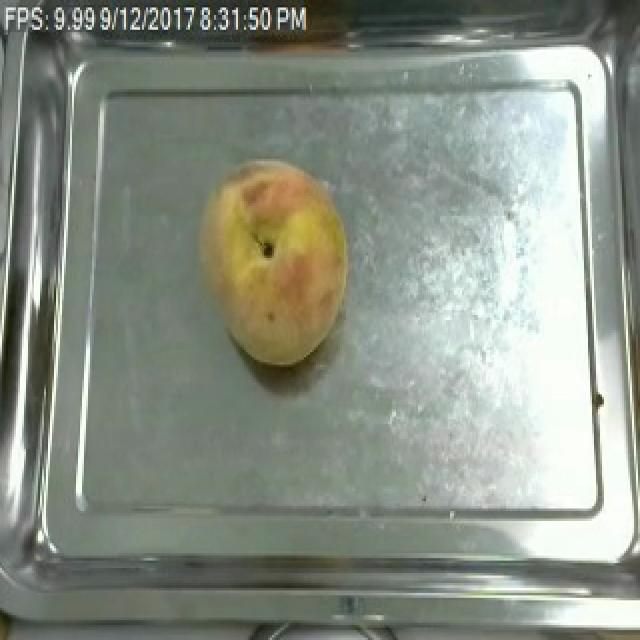Fruit: (190, 146, 358, 372)
